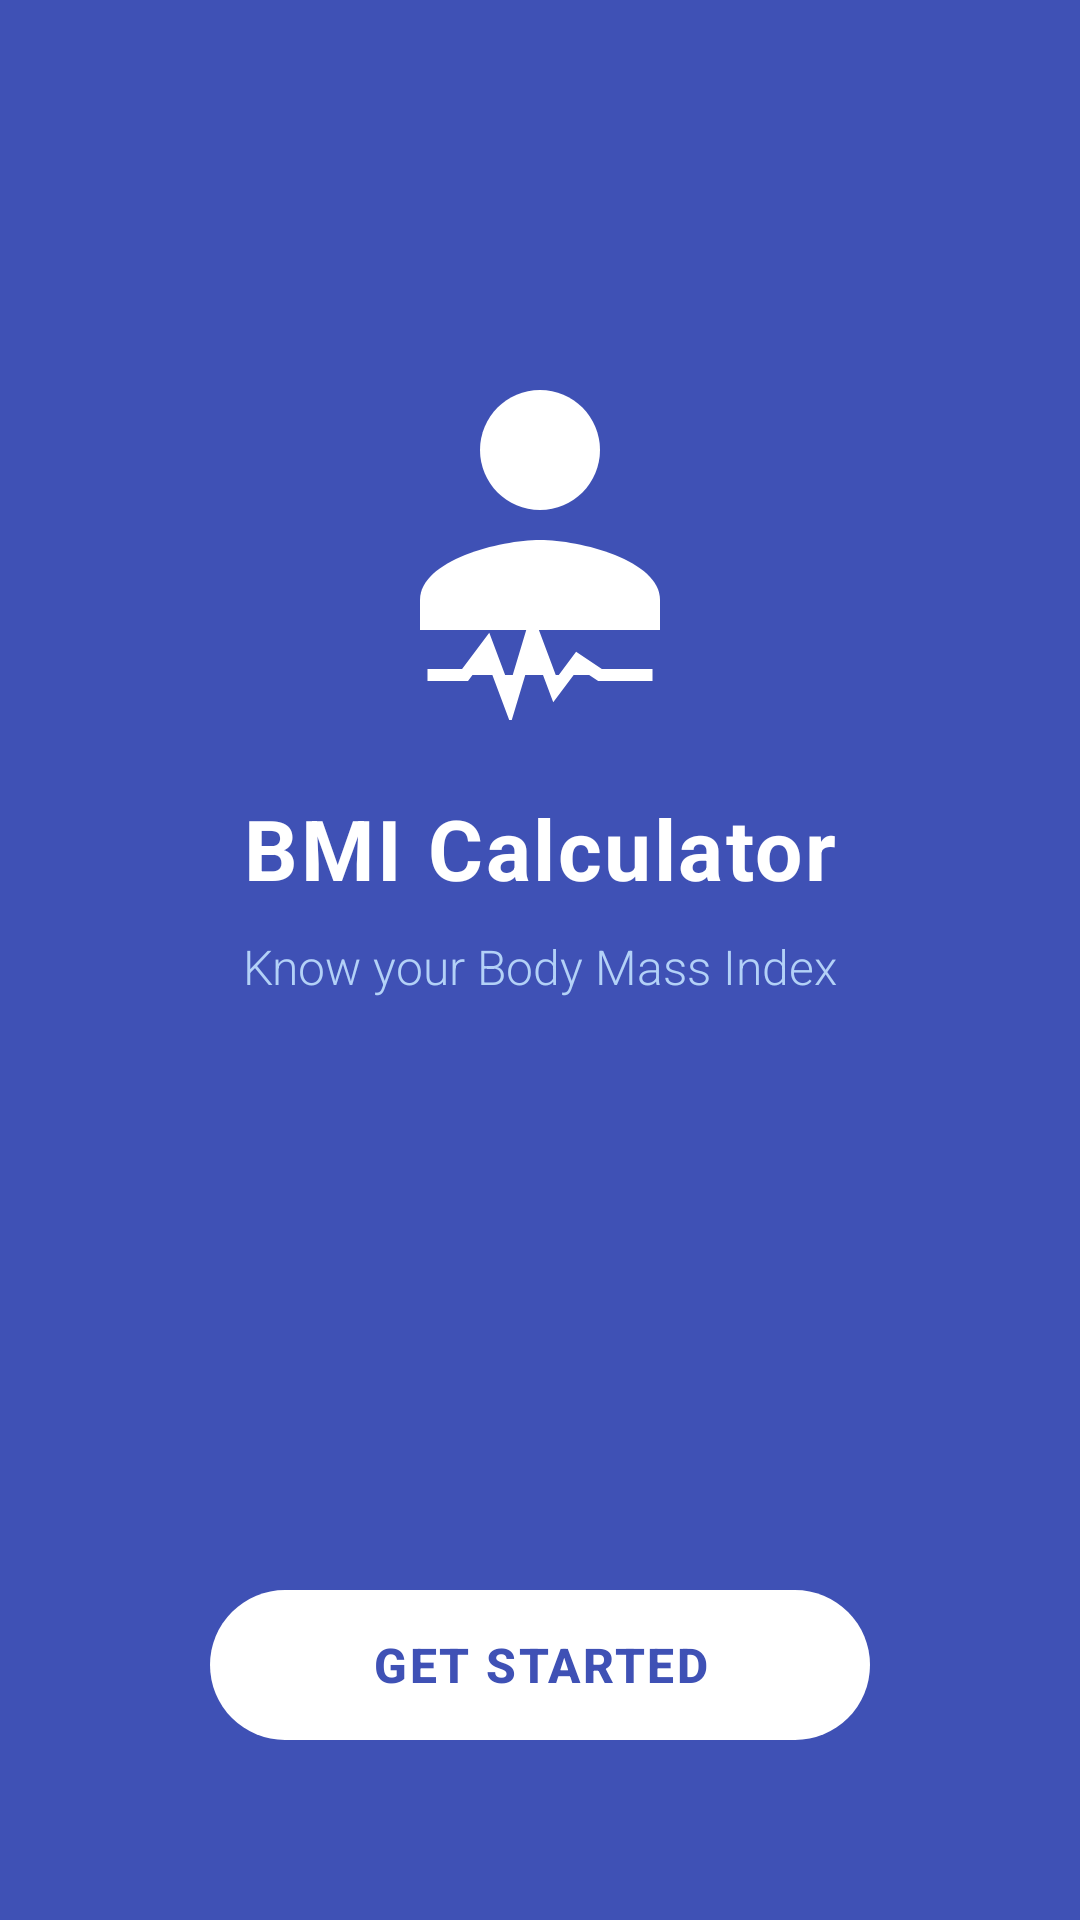

Locate icon controls on the screen. Image size 1080px x 1920px, boxes as Rect(x1, y1, x2, y2).
Health icon: Rect(420, 390, 660, 720)
